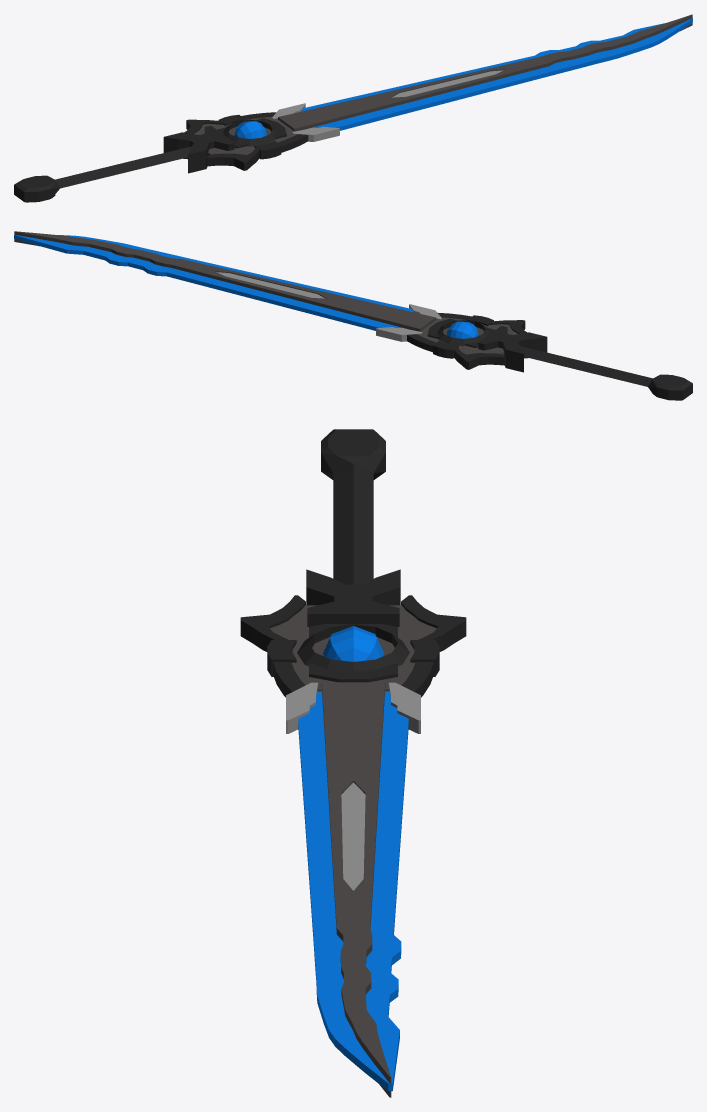
File: Sword.fbx
3 views of the same model, one above another, from view 1: azimuth 30°, elevation 25°; view 2: azimuth 150°, elevation 25°; view 3: azimuth 270°, elevation 25° (orthographic). The views are drawn at different scales.
Visible parts, largest first — view 1: Sword; view 2: Sword; view 3: Sword.
Part boxes in pixels (<box>): Sword: <box>14,14,692,202</box>; Sword: <box>14,231,692,400</box>; Sword: <box>240,429,466,1097</box>.
Bounding box in the file's own units: 2457 × 106 × 361.
